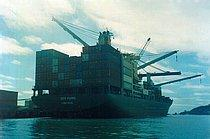Ship: (31, 26, 176, 118)
